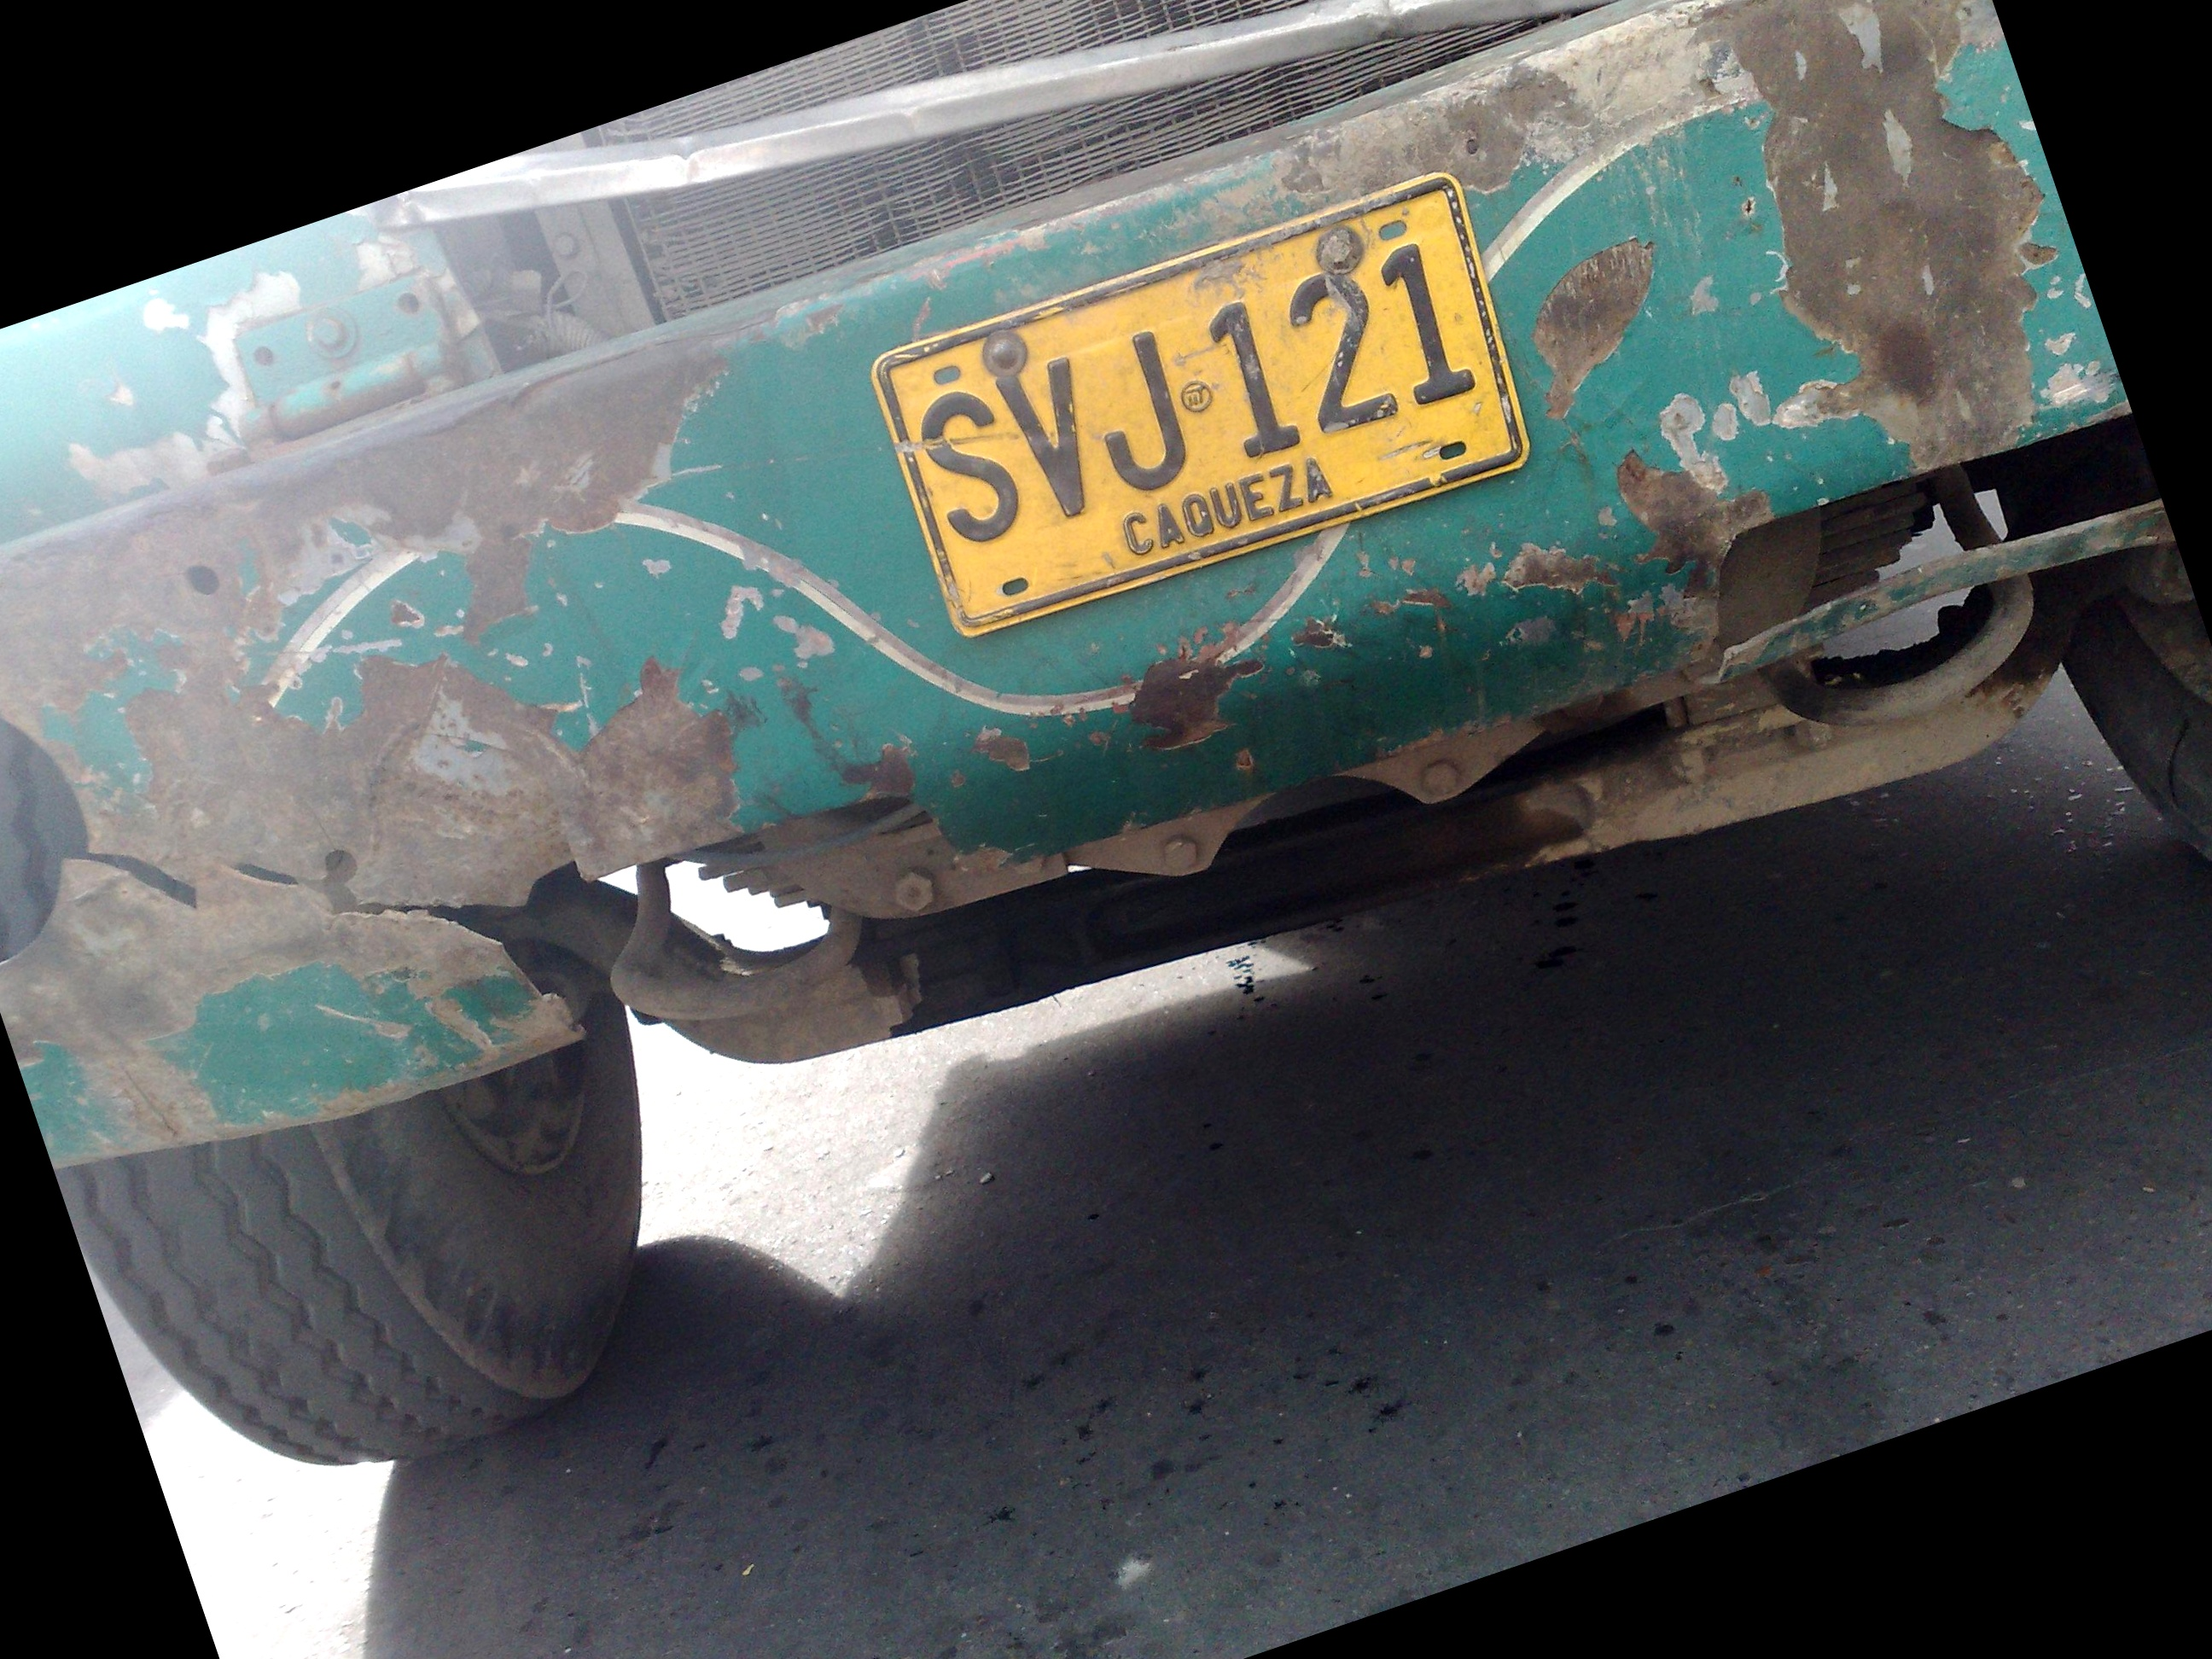placas: (844, 138, 1565, 677)
